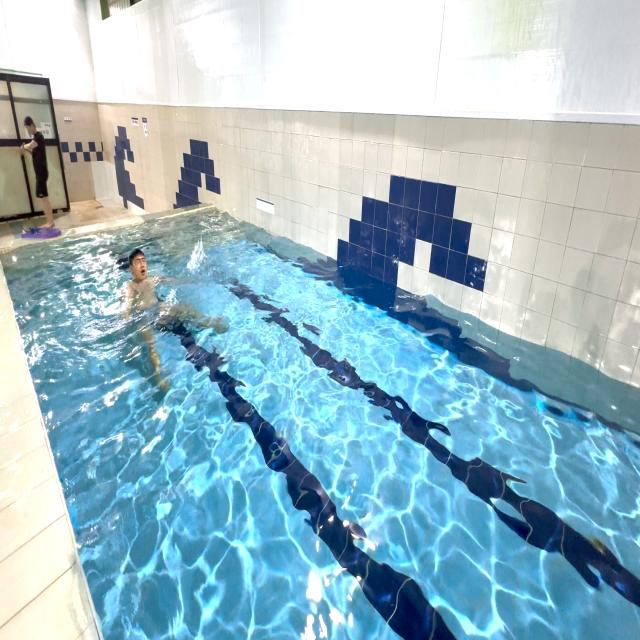Drowning: (92, 231, 224, 390)
